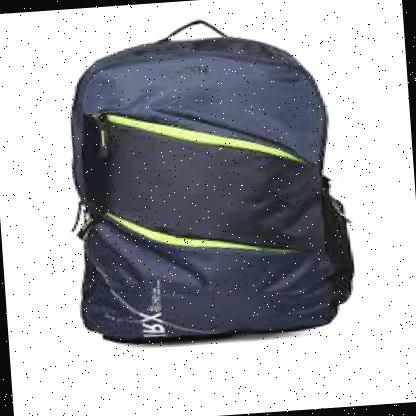bag: (55, 3, 362, 353)
